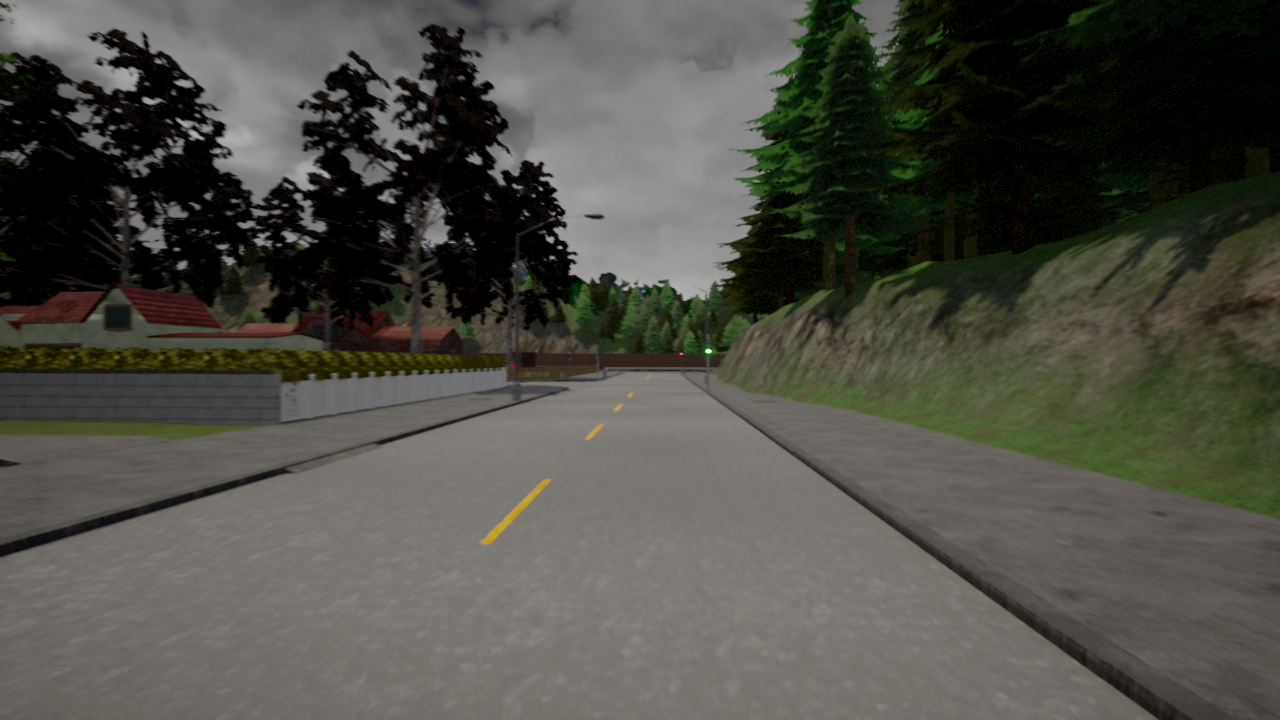green: (703, 338, 713, 355)
